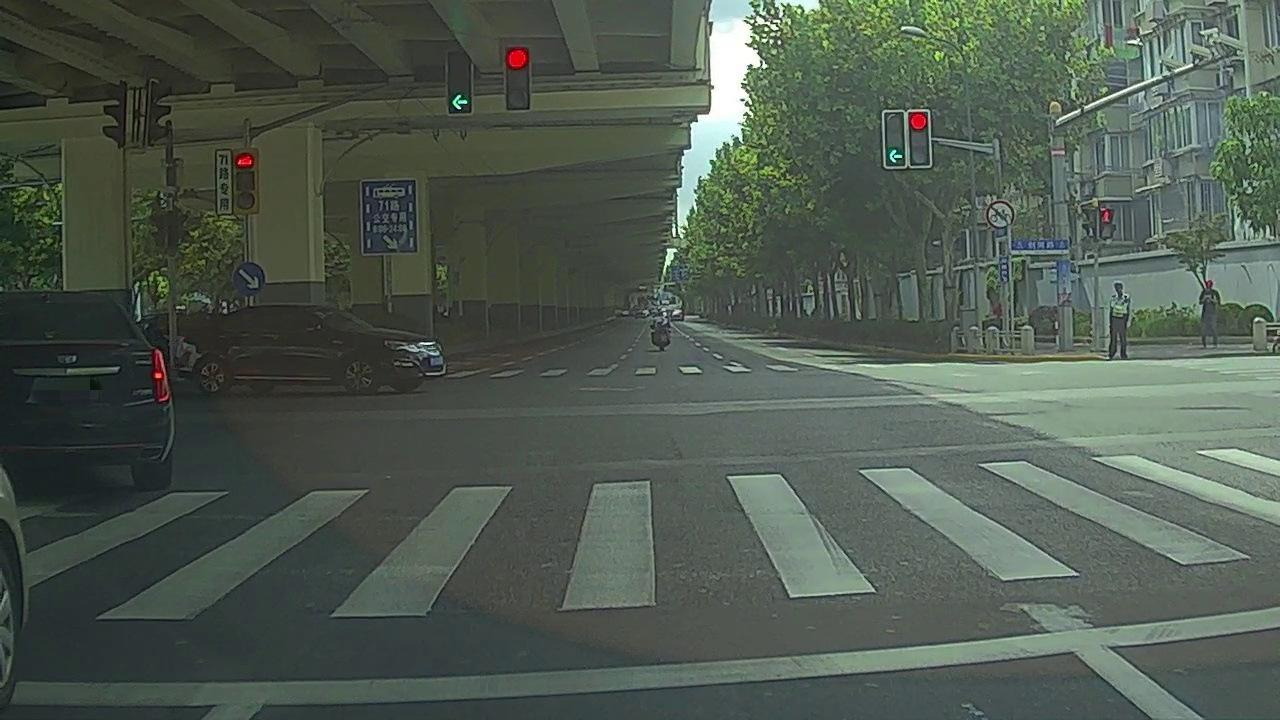traffic_light: (447, 50, 473, 116), (508, 46, 531, 110), (908, 112, 930, 167), (886, 111, 906, 168)
